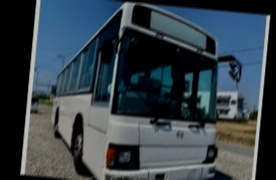bus: (45, 0, 231, 180)
